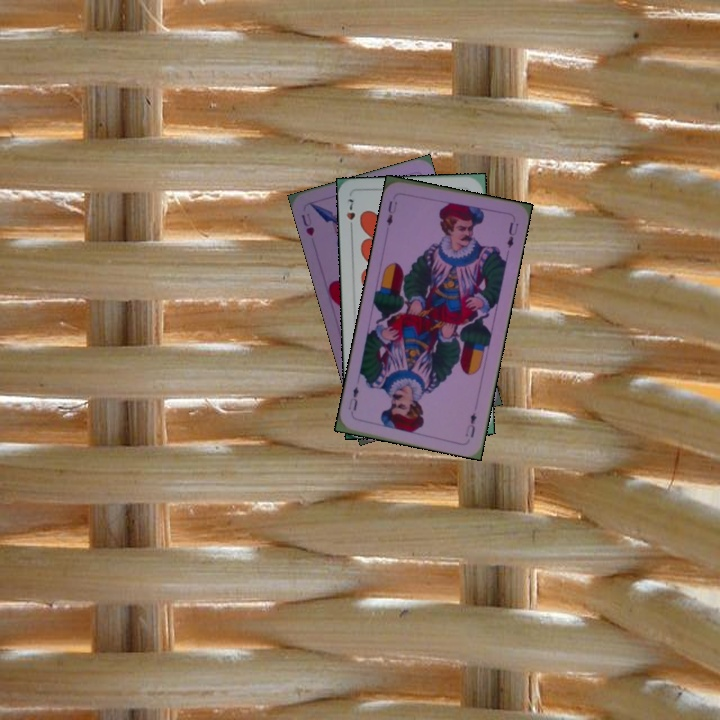EU: (382, 197, 400, 229), (461, 408, 479, 440)
H7: (342, 195, 358, 234)
HU: (297, 209, 317, 239)
